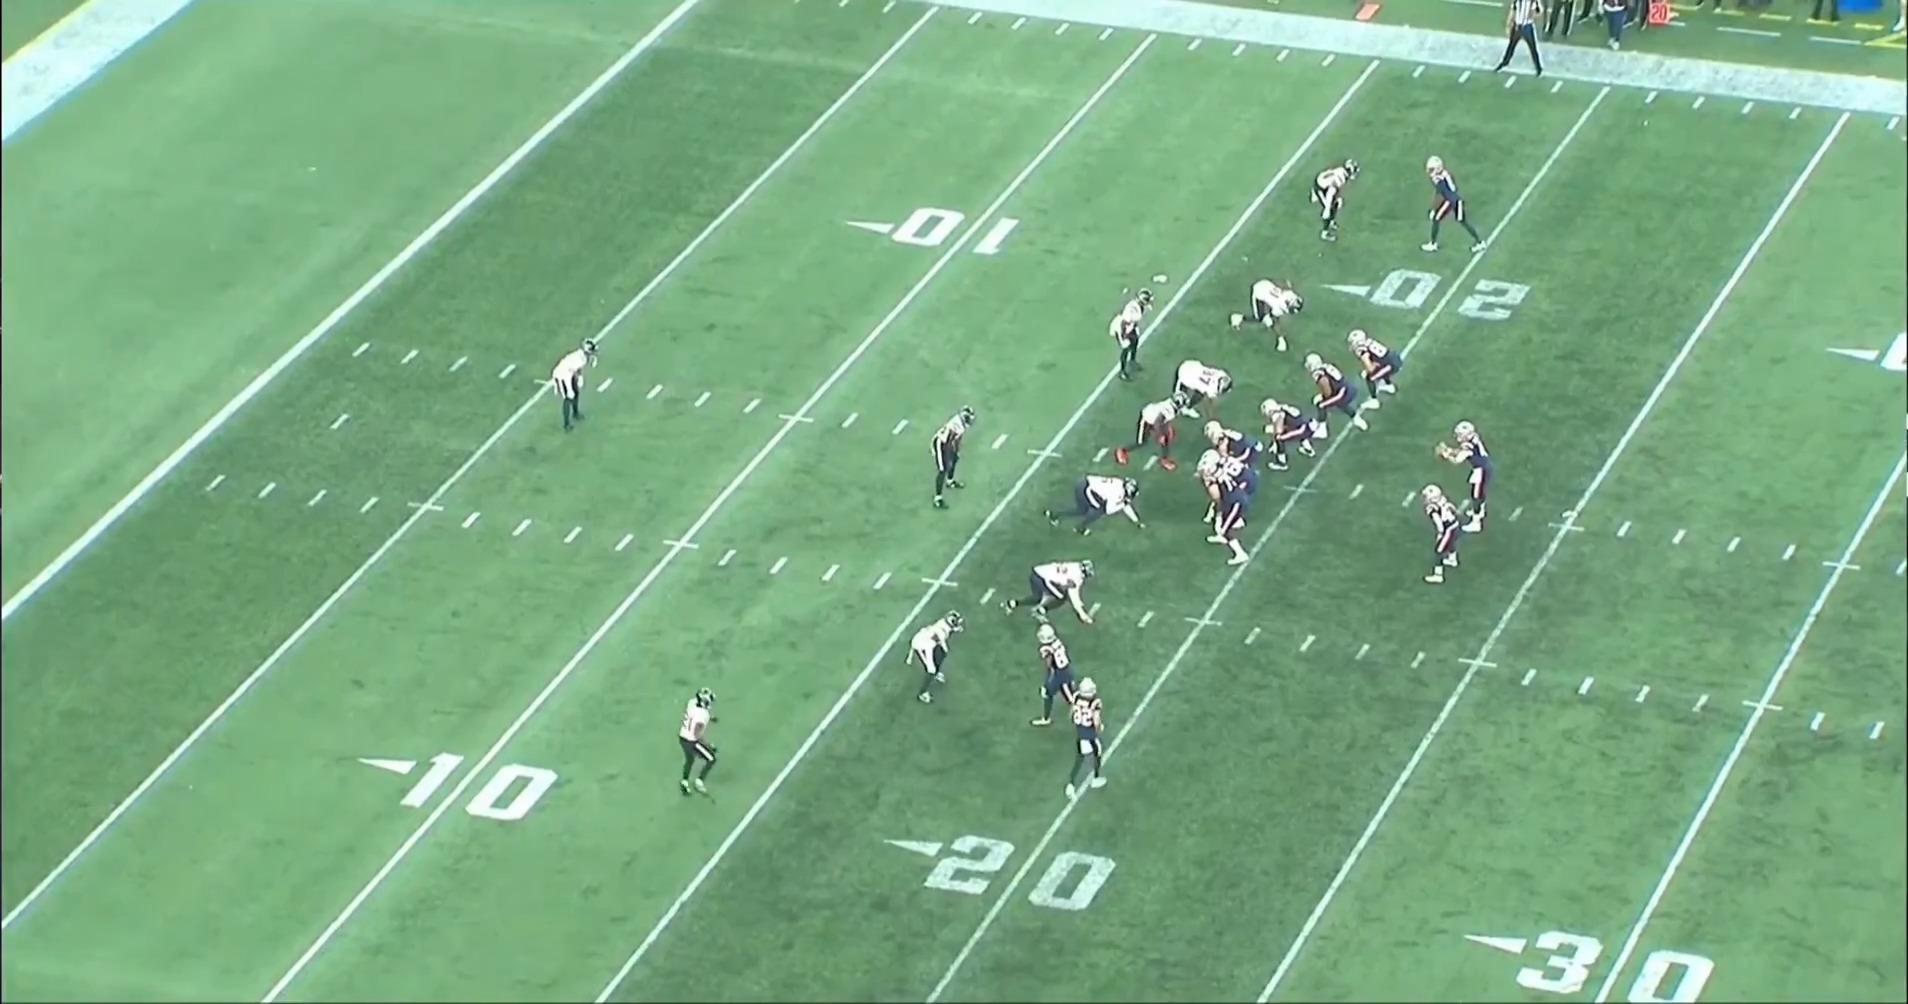player: (1418, 152, 1491, 259), (1045, 475, 1152, 543), (1427, 419, 1489, 533), (1012, 556, 1107, 626), (1057, 674, 1108, 801), (1117, 393, 1197, 473), (1197, 458, 1256, 566), (1226, 279, 1306, 358), (914, 606, 974, 706), (1306, 354, 1373, 442), (682, 684, 732, 799), (928, 405, 979, 513), (553, 339, 603, 442), (1345, 325, 1404, 412), (1037, 623, 1083, 733), (1104, 283, 1154, 382), (1306, 156, 1359, 247), (1162, 357, 1234, 422), (1416, 485, 1461, 589), (1267, 398, 1330, 472), (1204, 420, 1266, 473), (1202, 448, 1265, 499)
ref: (1490, 0, 1552, 78)
